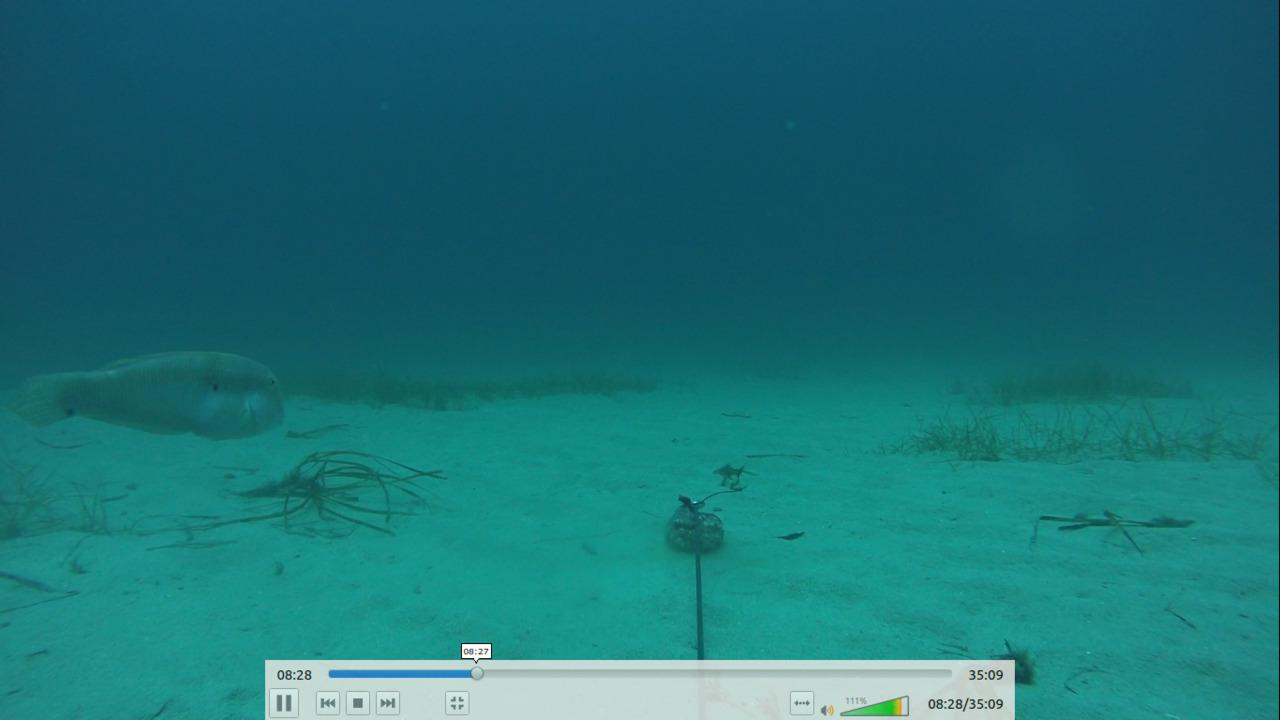raor: (8, 343, 290, 453)
